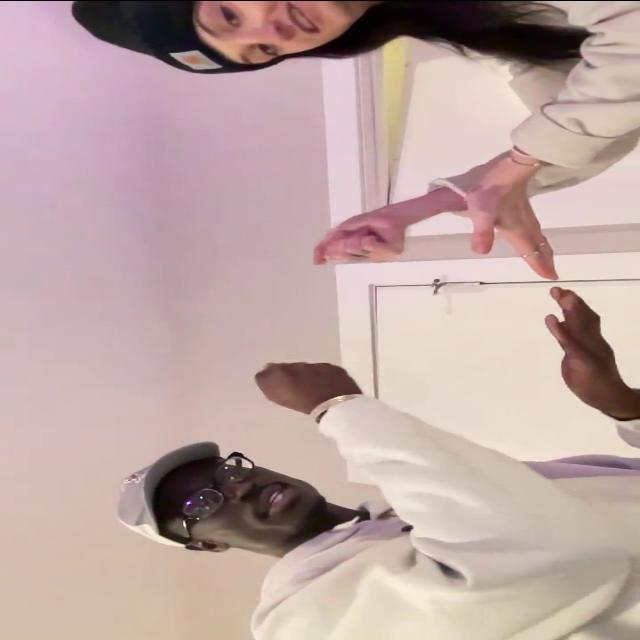Rock: (252, 360, 362, 410), (312, 212, 410, 264)
